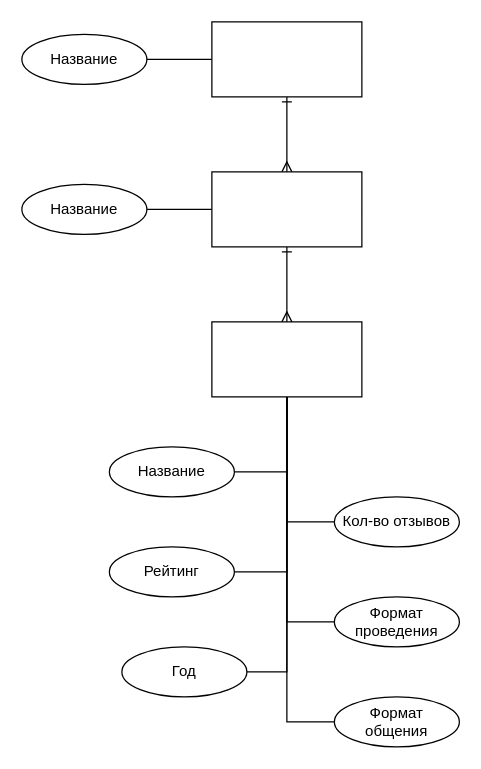
Some shapes in this 481 by 769 pixel diagram are drawn without their labels. Here are the shapes that lost their labels. From the top down, the centre of each, then its label:
At point 286,59: "Сфера курсов".
At point 286,209: "Тема курса".
At point 286,359: "Курс".
